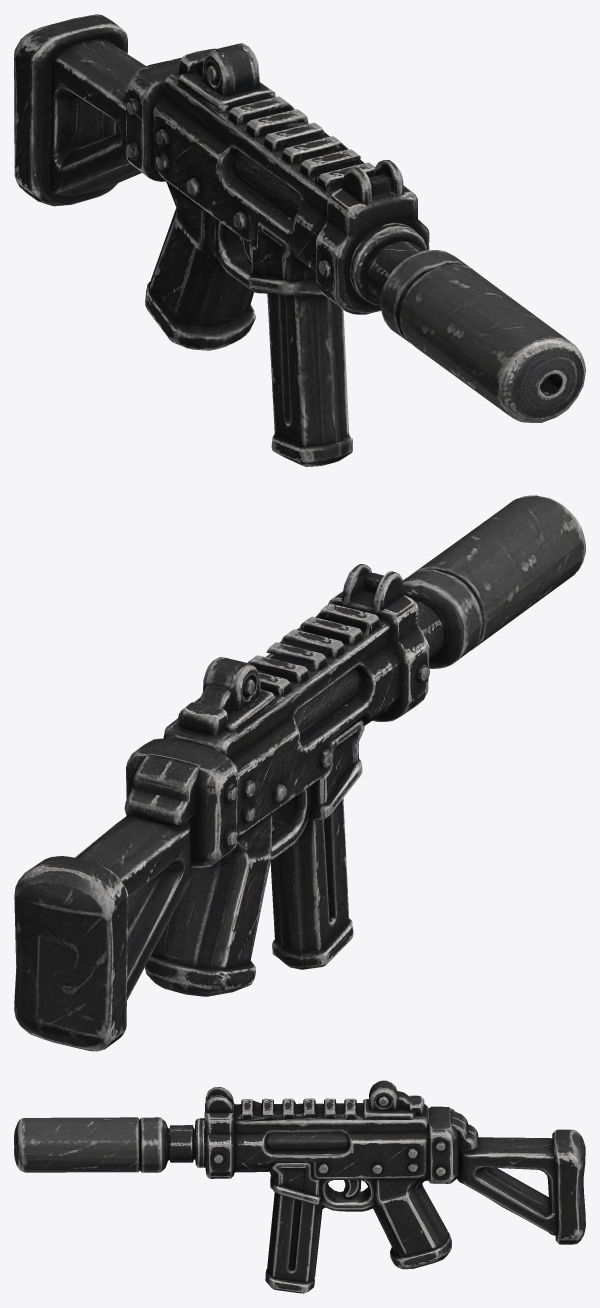
Rendered from gun_whisper.glb.
The picture shows the model from 3 angles, top to bottom: view 1: azimuth 30°, elevation 25°; view 2: azimuth 150°, elevation 25°; view 3: azimuth 270°, elevation 25°; orthographic projection. The views are drawn at different scales.
Size of the model in its own units: 0.1475 by 0.4725 by 1.2.
Materials: 1 (1 with a texture image).
